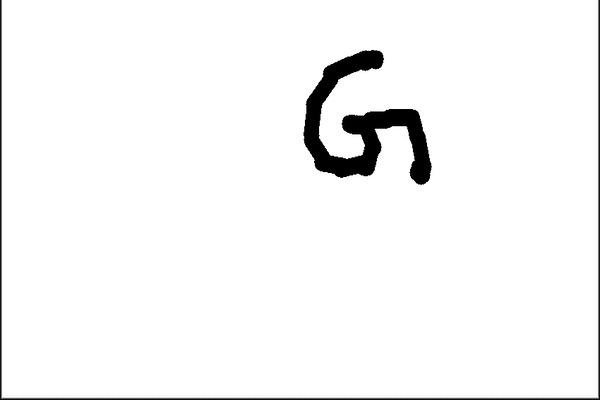G: (299, 46, 436, 189)
